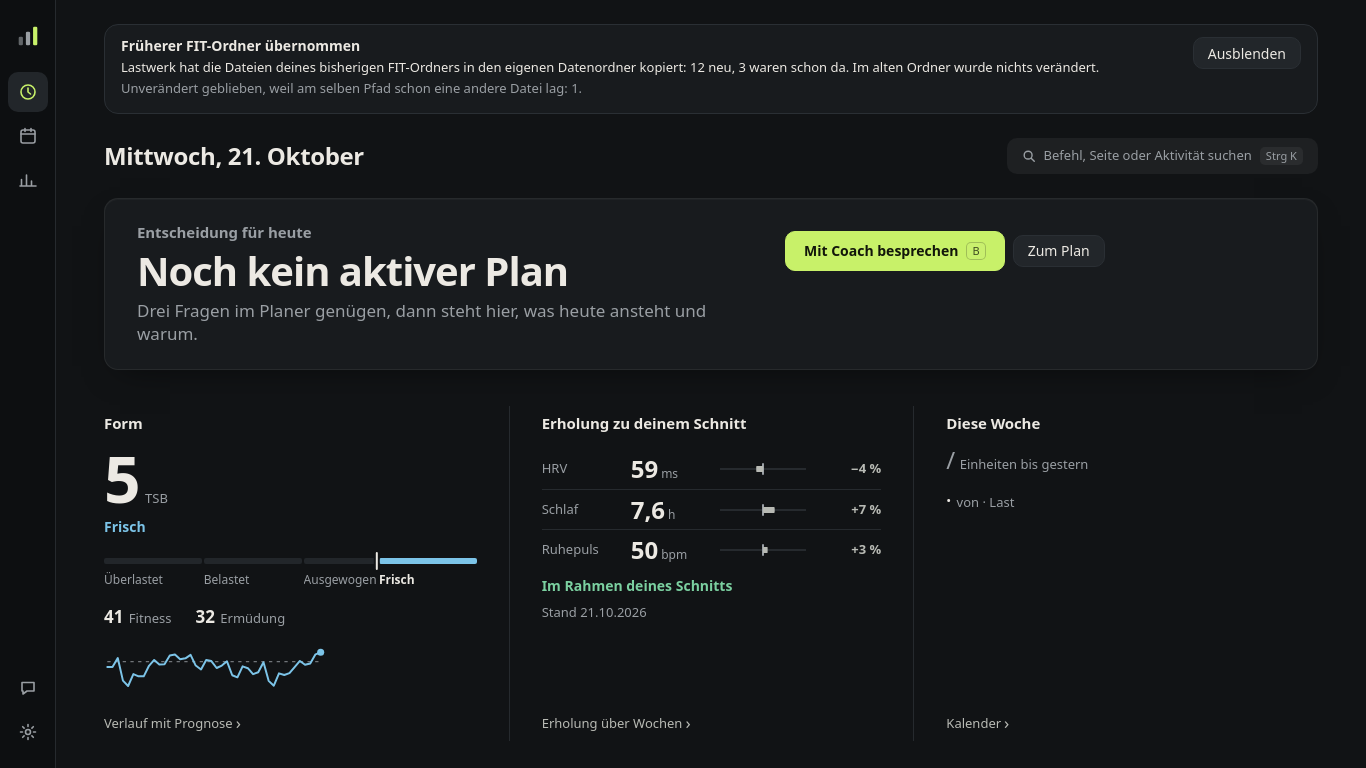
Test: Meldung zur Übernahme des früheren Ordners › erscheint einmal mit Zahlen, nie mit einem Pfad, und lässt sich ausblenden
The width and height of the screenshot is (1366, 768).
Expected: the message with test id "migration-notice" shows "12 neu, 3 waren schon da", [121,58,1099,76]
Expected: the message with test id "migration-notice" shows "Unverändert geblieben", [121,79,582,97]
What coordinates should you click on to do the following:
click the button with test id "migration-dismiss"
I would click on:
 (1247, 53)
Its box is [1193,37,1301,69].
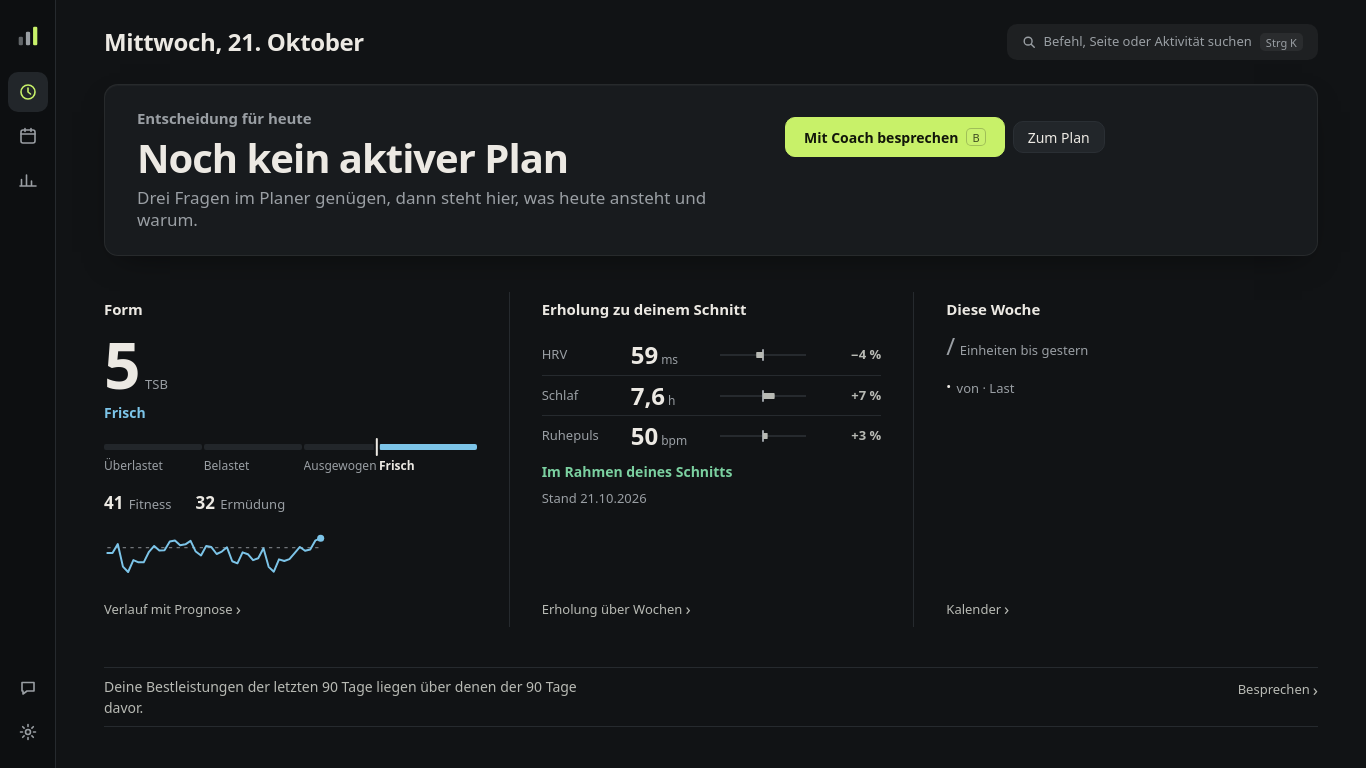
Now the message with test id "migration-notice" is gone
